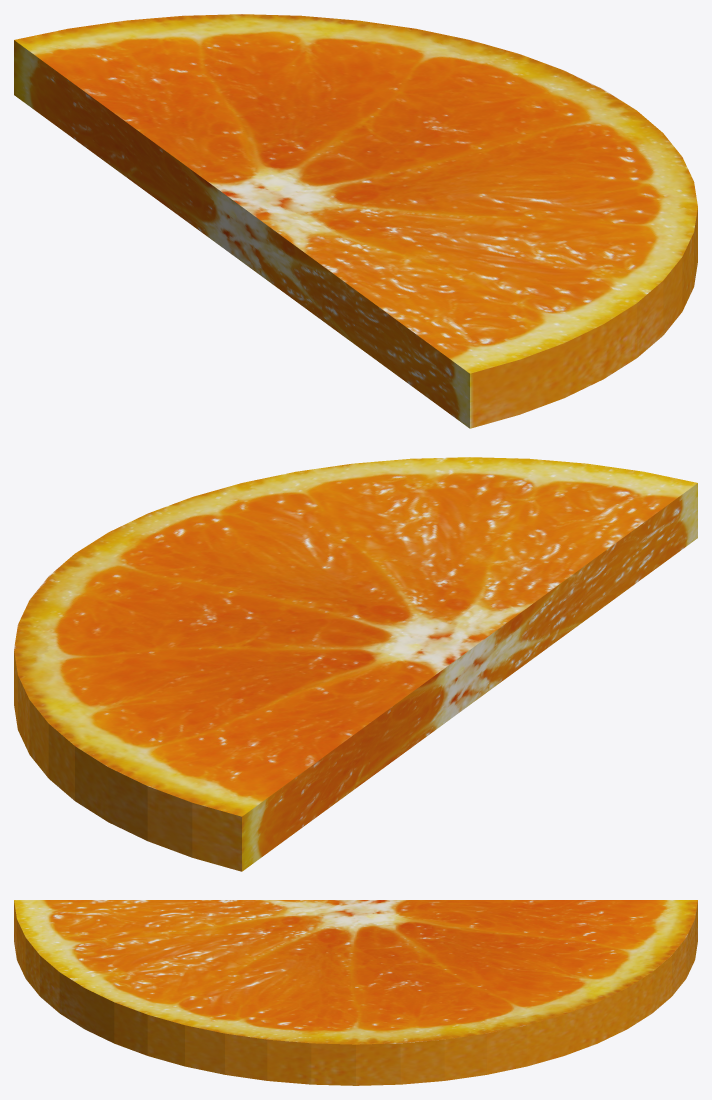
The model's file is 오렌지절반.fbx.
3 renders of one model, top to bottom at view 1: azimuth 30°, elevation 25°; view 2: azimuth 150°, elevation 25°; view 3: azimuth 270°, elevation 25°, orthographic. The views are drawn at different scales.
Visible parts, largest first — view 1: Cylinder.001; view 2: Cylinder.001; view 3: Cylinder.001.
Boxes of the visible parts, x1,y1,x2,y2 form: Cylinder.001: [14, 14, 697, 428]; Cylinder.001: [14, 457, 697, 871]; Cylinder.001: [14, 900, 697, 1085].
Size of the model in its own units: 100 by 13.33 by 200.
